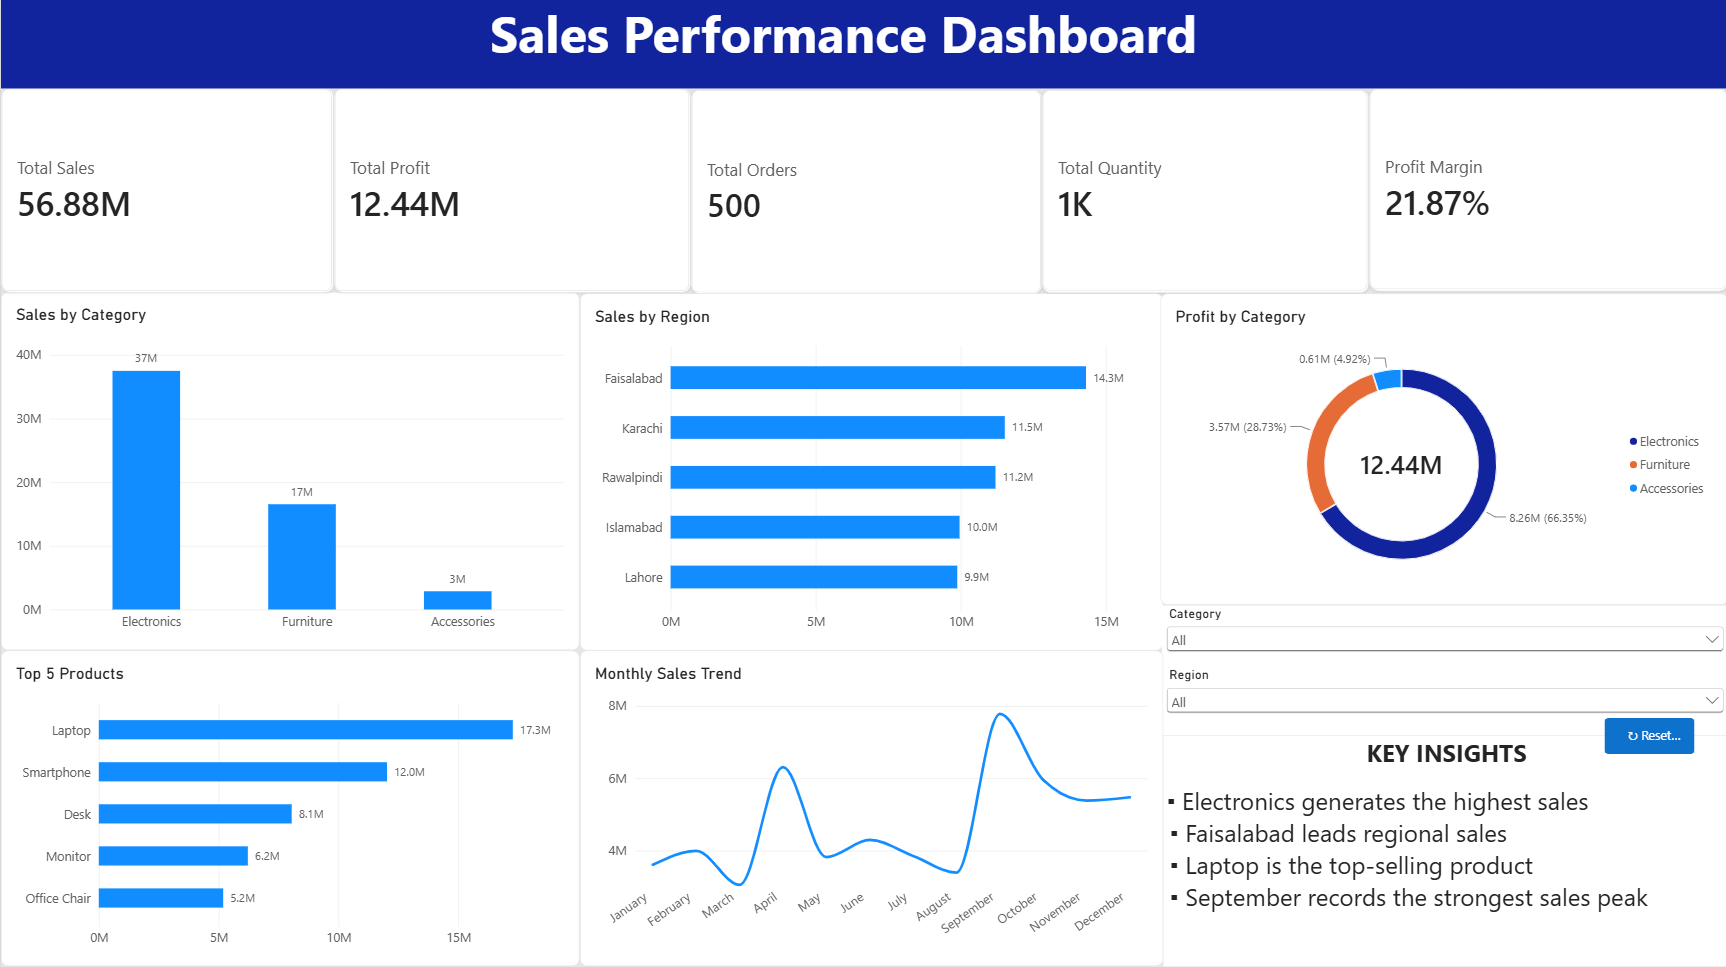

This screenshot's page, from the dashboard's own definition file:
{"tool":"powerbi","page":{"name":"Page 1","canvas":[1920,1080],"ordinal":0},"visuals":[{"type":"clusteredColumnChart","title":"Sales by Category","fields":{"Category":["Sales Data.Category"],"Y":["Sum(Sales Data.Sales)"]},"box":[0,327,643,398.1],"z":0},{"type":"cardVisual","fields":{"Data":["Sales Data.Total Sales"]},"box":[0,99.5,369.7,227.5],"z":1000},{"type":"cardVisual","fields":{"Data":["Sales Data.Total Profit"]},"box":[369.7,99.5,396.5,227.5],"z":2000},{"type":"cardVisual","fields":{"Data":["Sales Data.Total Orders"]},"box":[766.2,101.1,390.2,227.5],"z":3000},{"type":"cardVisual","fields":{"Data":["Sales Data.Total Quantity"]},"box":[1156.4,101.1,363.4,225.9],"z":4000},{"type":"clusteredBarChart","title":"Sales by Region","fields":{"Category":["Sales Data.Region"],"Y":["Sum(Sales Data.Sales)"]},"box":[643,328.6,647.7,396.5],"z":5000},{"type":"clusteredBarChart","title":"Top 5 Products","fields":{"Category":["Sales Data.Product"],"Y":["Sum(Sales Data.Sales)"]},"box":[0,725.1,643,350.7],"z":6000},{"type":"slicer","fields":{"Values":["Sales Data.Region"]},"box":[1290.7,744.1,628.8,75.8],"z":7000},{"type":"slicer","fields":{"Values":["Sales Data.Category"]},"box":[1290.7,674.6,628.8,69.5],"z":8000},{"type":"cardVisual","fields":{"Data":["Sales Data.Profit Margin"]},"box":[1519.8,99.5,399.7,225.9],"z":9000},{"type":"lineChart","title":"Monthly Sales Trend","fields":{"Category":["Sales Data.Order Date.Variation.Date Hierarchy.Month"],"Y":["Sales Data.Total Sales"]},"box":[643,725.1,647.7,350.7],"z":10000},{"type":"textbox","box":[338,0,1582,100],"z":11000},{"type":"shape","box":[0,0,1919.4,100.5],"z":12000},{"type":"textbox","box":[543.5,0,816.8,99.5],"z":12001},{"type":"donutChart","title":"Profit by Category","fields":{"Category":["Sales Data.Category"],"Y":["Sum(Sales Data.Profit)"]},"box":[1289.1,328.6,630.3,346],"z":12002},{"type":"textbox","box":[1291,820,629,256],"z":12003},{"type":"actionButton","box":[1782,800,100,40],"z":12004}]}

Visuals, with their boxes in screenshot pixels (x1, y1, x2, y2), scaled from the page's 1920x1080 canvas onto the 1726x967 screenshot:
"Sales by Category" clusteredColumnChart: rect(0, 293, 578, 649)
cardVisual - Sales Data.Total Sales: rect(0, 89, 332, 293)
cardVisual - Sales Data.Total Profit: rect(332, 89, 689, 293)
cardVisual - Sales Data.Total Orders: rect(689, 91, 1040, 294)
cardVisual - Sales Data.Total Quantity: rect(1040, 91, 1366, 293)
"Sales by Region" clusteredBarChart: rect(578, 294, 1160, 649)
"Top 5 Products" clusteredBarChart: rect(0, 649, 578, 963)
slicer - Sales Data.Region: rect(1160, 666, 1725, 734)
slicer - Sales Data.Category: rect(1160, 604, 1725, 666)
cardVisual - Sales Data.Profit Margin: rect(1366, 89, 1725, 291)
"Monthly Sales Trend" lineChart: rect(578, 649, 1160, 963)
textbox: rect(304, 0, 1725, 90)
shape: rect(0, 0, 1725, 90)
textbox: rect(489, 0, 1223, 89)
"Profit by Category" donutChart: rect(1159, 294, 1725, 604)
textbox: rect(1161, 734, 1725, 963)
actionButton: rect(1602, 716, 1692, 752)
